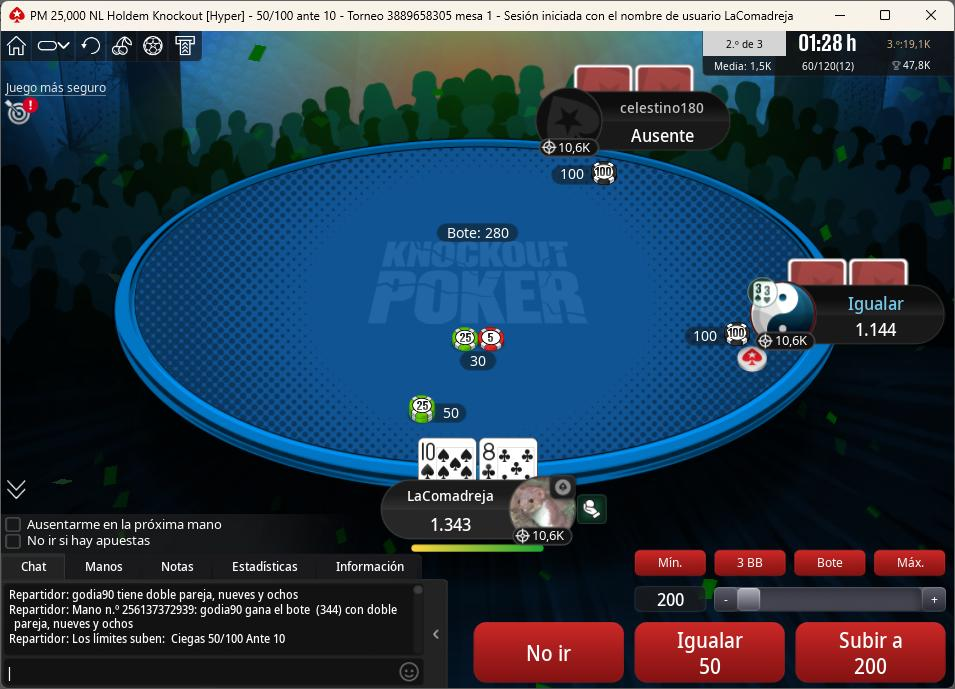ButtonCall: (635, 618, 788, 688)
ButtonFold: (471, 619, 627, 682)
ButtonMaxRaise: (872, 549, 950, 577)
ButtonMinRaise: (632, 546, 710, 577)
ButtonPotRaise: (792, 547, 869, 581)
ButtonRaise: (792, 619, 955, 687)
HiddenCards: (573, 66, 694, 96), (786, 257, 911, 286)
Player: (747, 281, 945, 350), (540, 93, 730, 158)
PlayerBet: (685, 319, 751, 348)
PlayerChips: (851, 320, 906, 339)
Pot: (437, 222, 520, 244)
PrincipalBet: (404, 392, 470, 425)
PrincipalCards: (419, 437, 544, 483)
PrincipalCards1: (417, 435, 478, 483)
PrincipalCards2: (479, 434, 543, 484)
PrincipalPlayer: (384, 472, 584, 547)
PrincipalPlayerChips: (424, 516, 477, 536)
SmallBigBlind: (244, 5, 347, 28)
TablePot: (445, 320, 521, 377)
